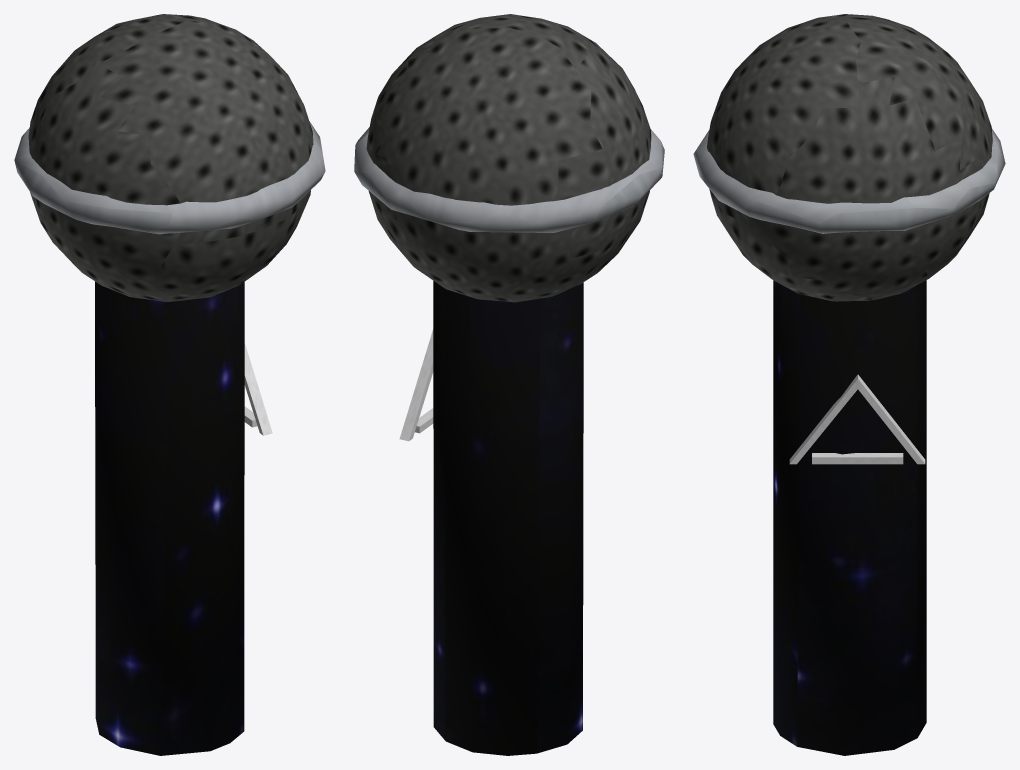
File: b-mic.dae
3 renders of one model, left to right at view 1: azimuth 30°, elevation 25°; view 2: azimuth 150°, elevation 25°; view 3: azimuth 270°, elevation 25°, orthographic.
Visible parts, largest first — view 1: Sphere; view 2: Sphere; view 3: Sphere.
Part boxes in pixels (x1,y1,x2,y2): Sphere: (14, 14, 325, 755); Sphere: (354, 14, 664, 755); Sphere: (693, 14, 1005, 755).
Size of the model in its own units: 0.0804 by 0.0801 by 0.1971.
Materials: 1 (1 with a texture image).
